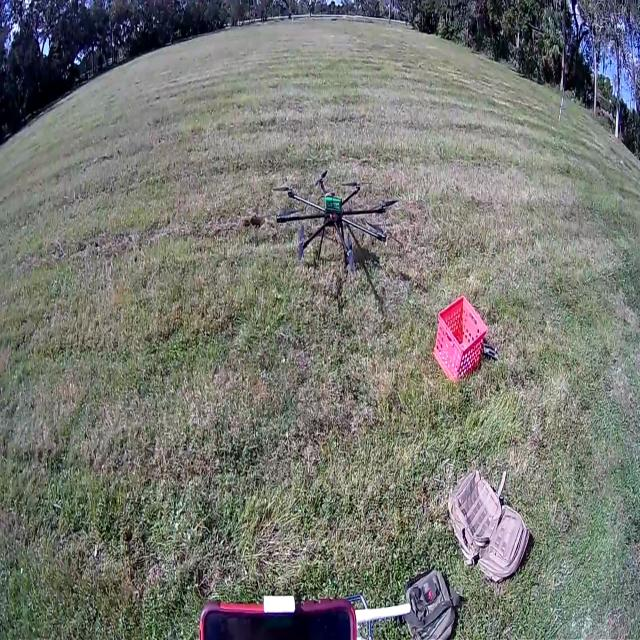drone: (266, 164, 410, 306)
